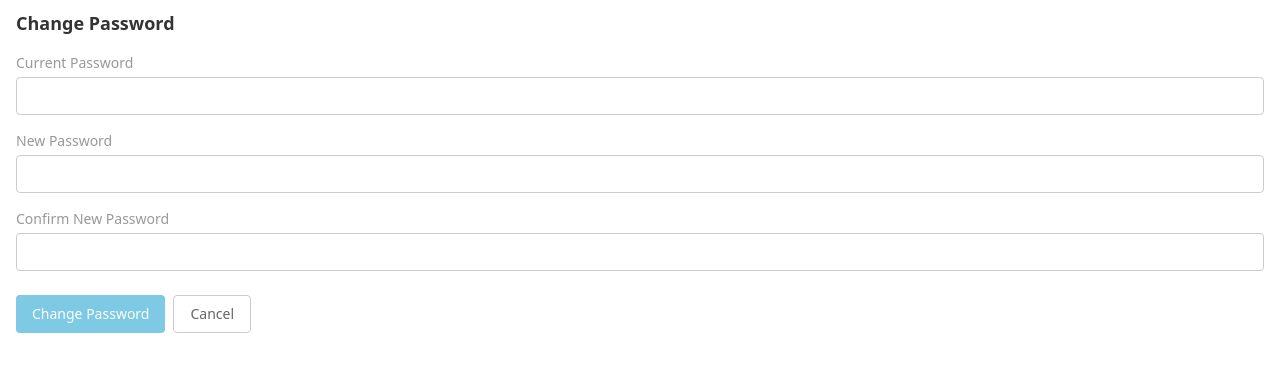
ChangePasswordPanel › shows error when ChangePassword request fails
Step 1. Type "wrongpass1" into the password field below "Current Password" → (640, 96), box [16,77,1264,115]
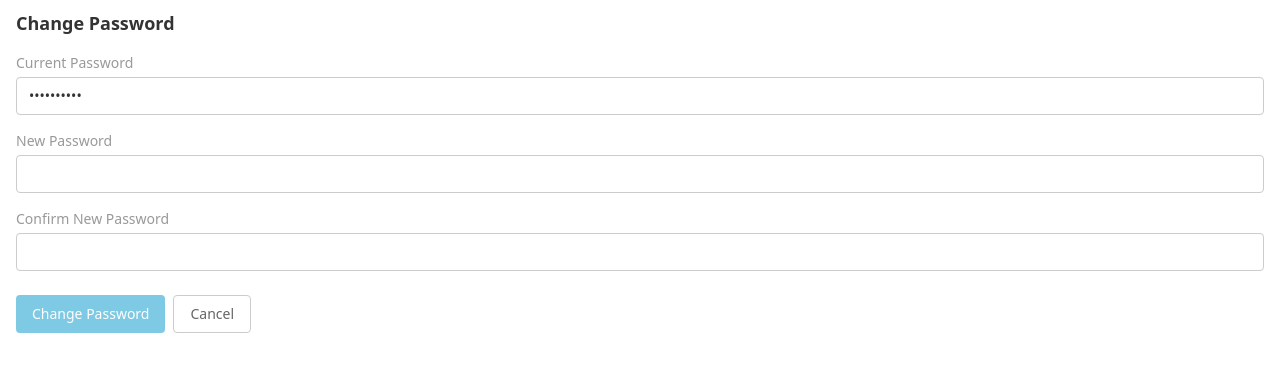
Step 2. Type "newpass12" into the 2nd password field → (640, 174), box [16,155,1264,193]
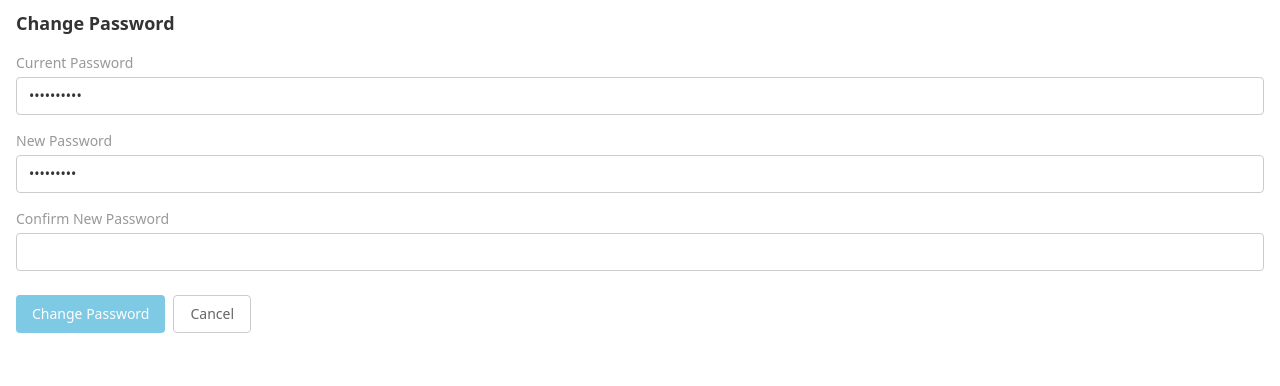
Step 3. Type "newpass12" into the password field below "Confirm New Password" → (640, 252), box [16,233,1264,271]
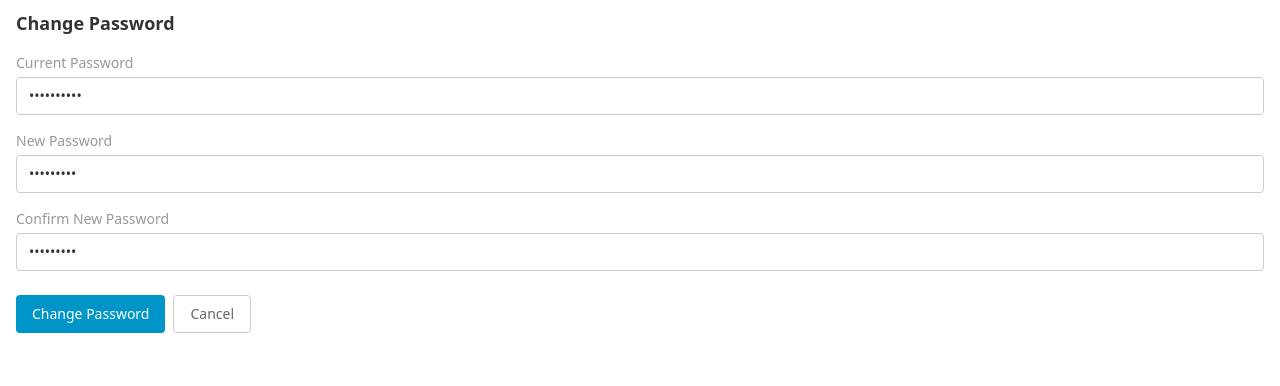
Step 4. Click the button "Change Password" → click(91, 314), box [16,295,166,333]
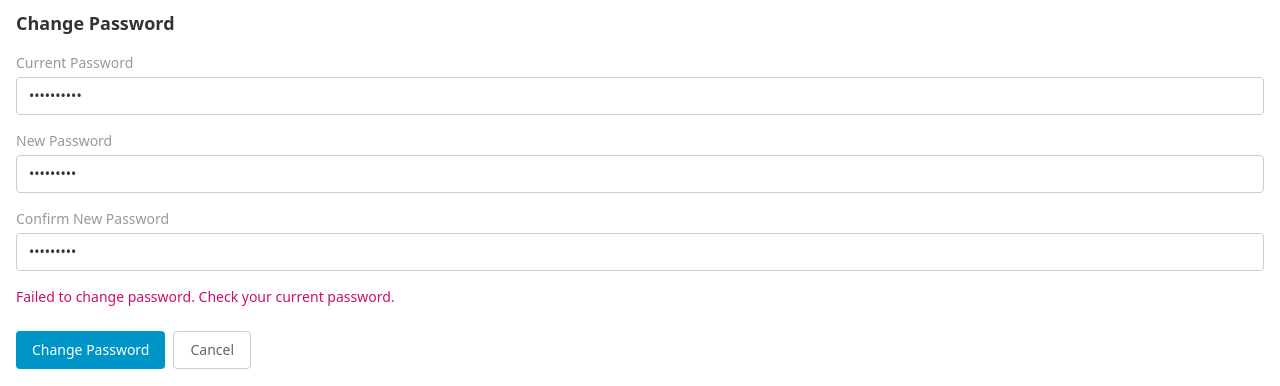
Check: the text "Failed to change password. Check your current password." is shown, box [16,287,395,306]
